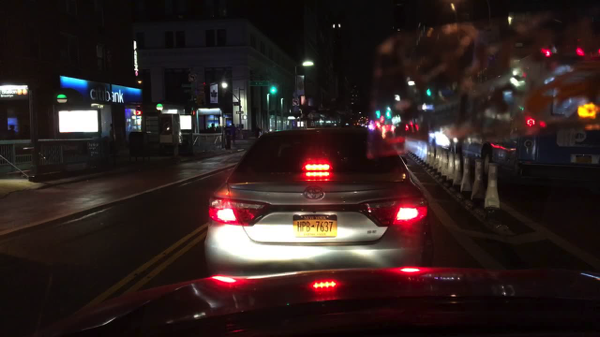bus: (422, 51, 599, 181)
car: (204, 125, 432, 277)
person: (228, 123, 237, 144), (253, 125, 261, 140), (208, 123, 216, 133), (223, 125, 228, 140)
traffic light: (199, 81, 206, 96), (270, 85, 278, 97), (425, 88, 433, 98), (374, 109, 381, 118), (384, 111, 392, 118)
traffic sign: (247, 81, 268, 87), (188, 74, 199, 83), (181, 84, 191, 87), (235, 111, 242, 115)
